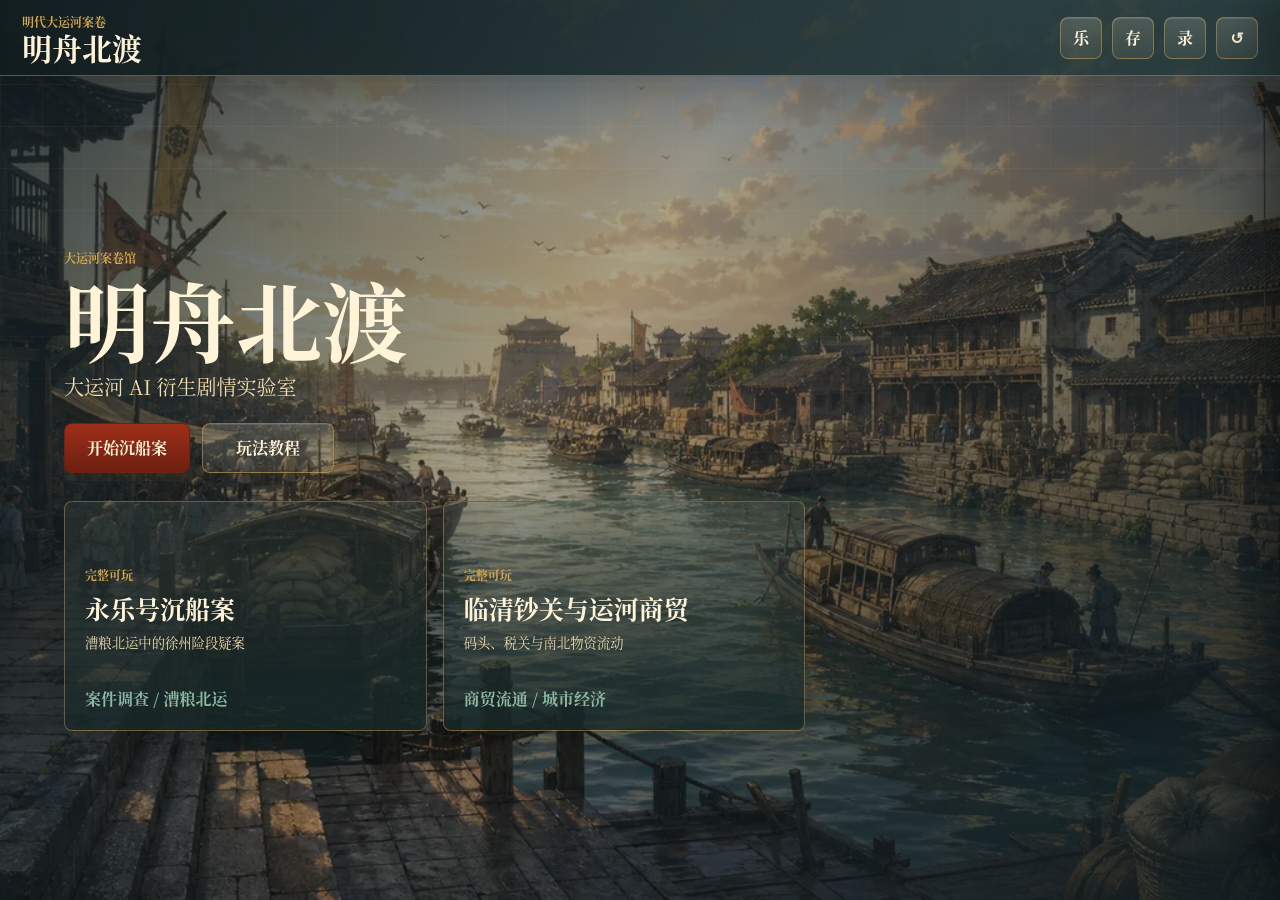
Test: App › opens the Linqing customs prologue from the home view
Click the button "完整可玩 临清钞关与运河商贸 码头、税关与南北物资流动 商贸流通 / 城市经济".
click(624, 616)  # box [443, 501, 805, 731]
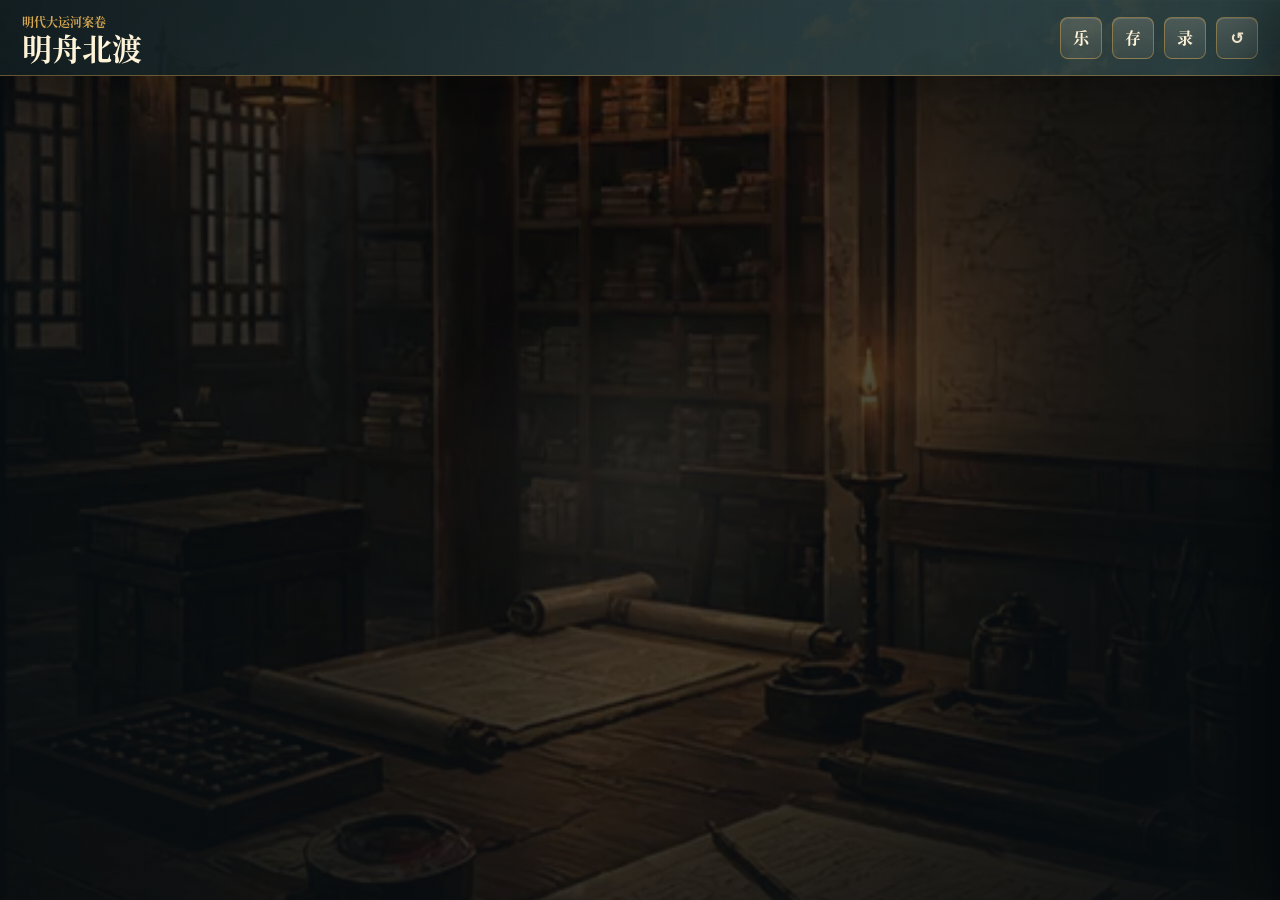
Result: the element named "临清钞关疑账序章" is shown
